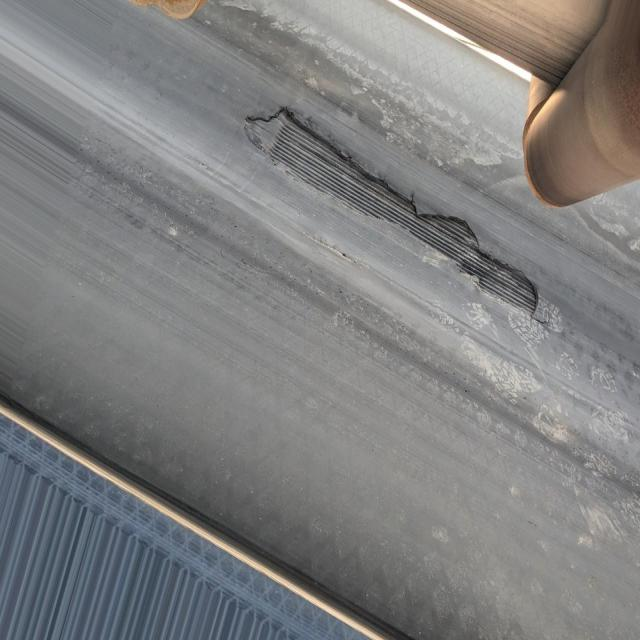Roller: (522, 0, 640, 212)
Tear: (242, 101, 553, 339)
